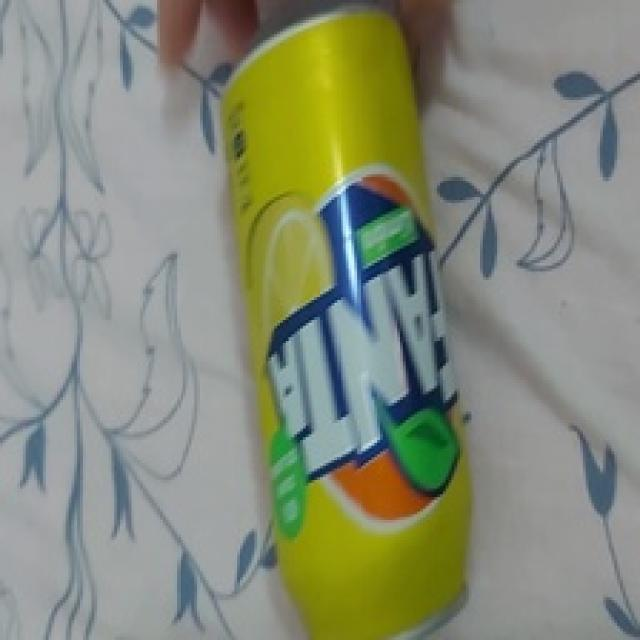recyclable: (215, 5, 468, 640)
